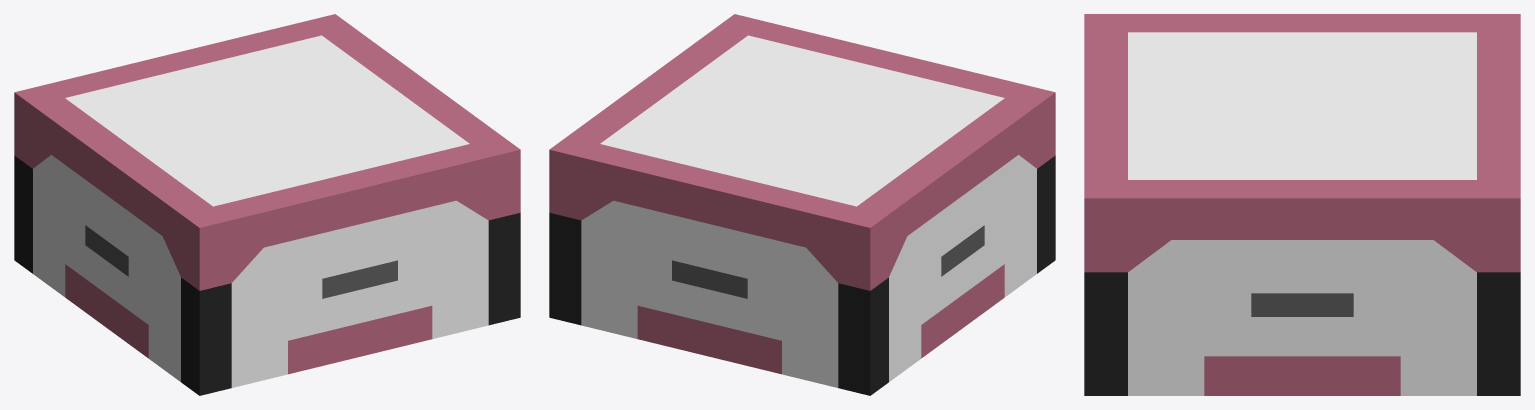
The model's file is Block1.fbx.
The picture shows the model from 3 angles, left to right: view 1: azimuth 30°, elevation 25°; view 2: azimuth 150°, elevation 25°; view 3: azimuth 270°, elevation 25°; orthographic projection. The views are drawn at different scales.
Visible parts, largest first — view 1: Basic_Block; view 2: Basic_Block; view 3: Basic_Block.
Part boxes in pixels (x1,y1,x2,y2): Basic_Block: (14, 14, 520, 395); Basic_Block: (549, 14, 1055, 395); Basic_Block: (1084, 14, 1520, 395).
Bounding box in the file's own units: 5 × 2.5 × 5.
